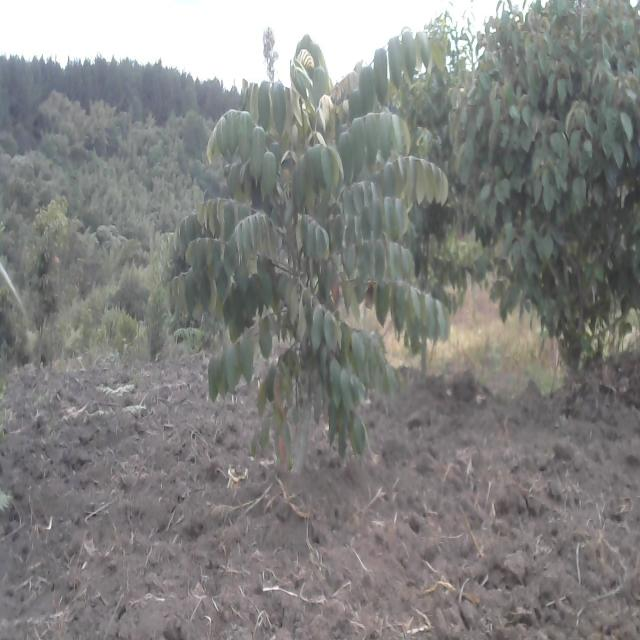Polyscias fulva: (153, 14, 474, 507)
